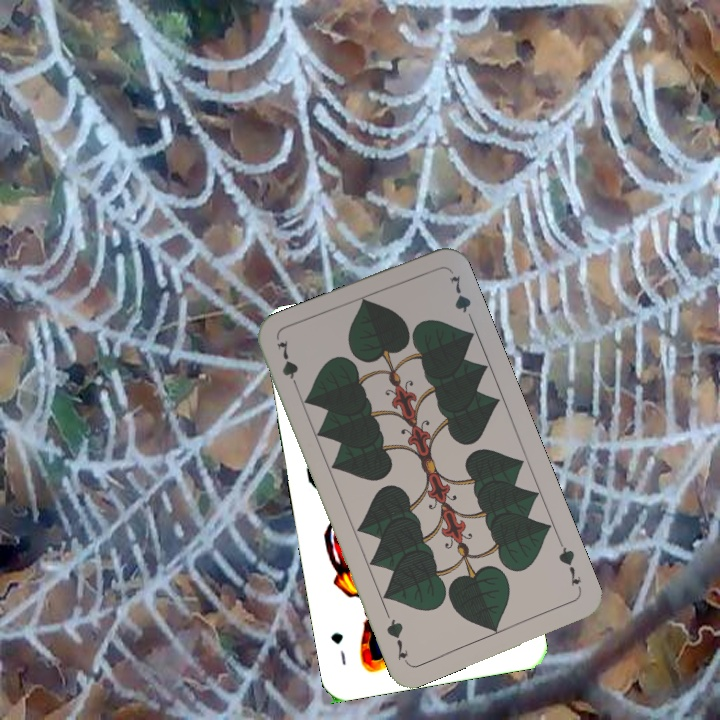G7: (272, 335, 303, 395), (554, 537, 584, 589)
